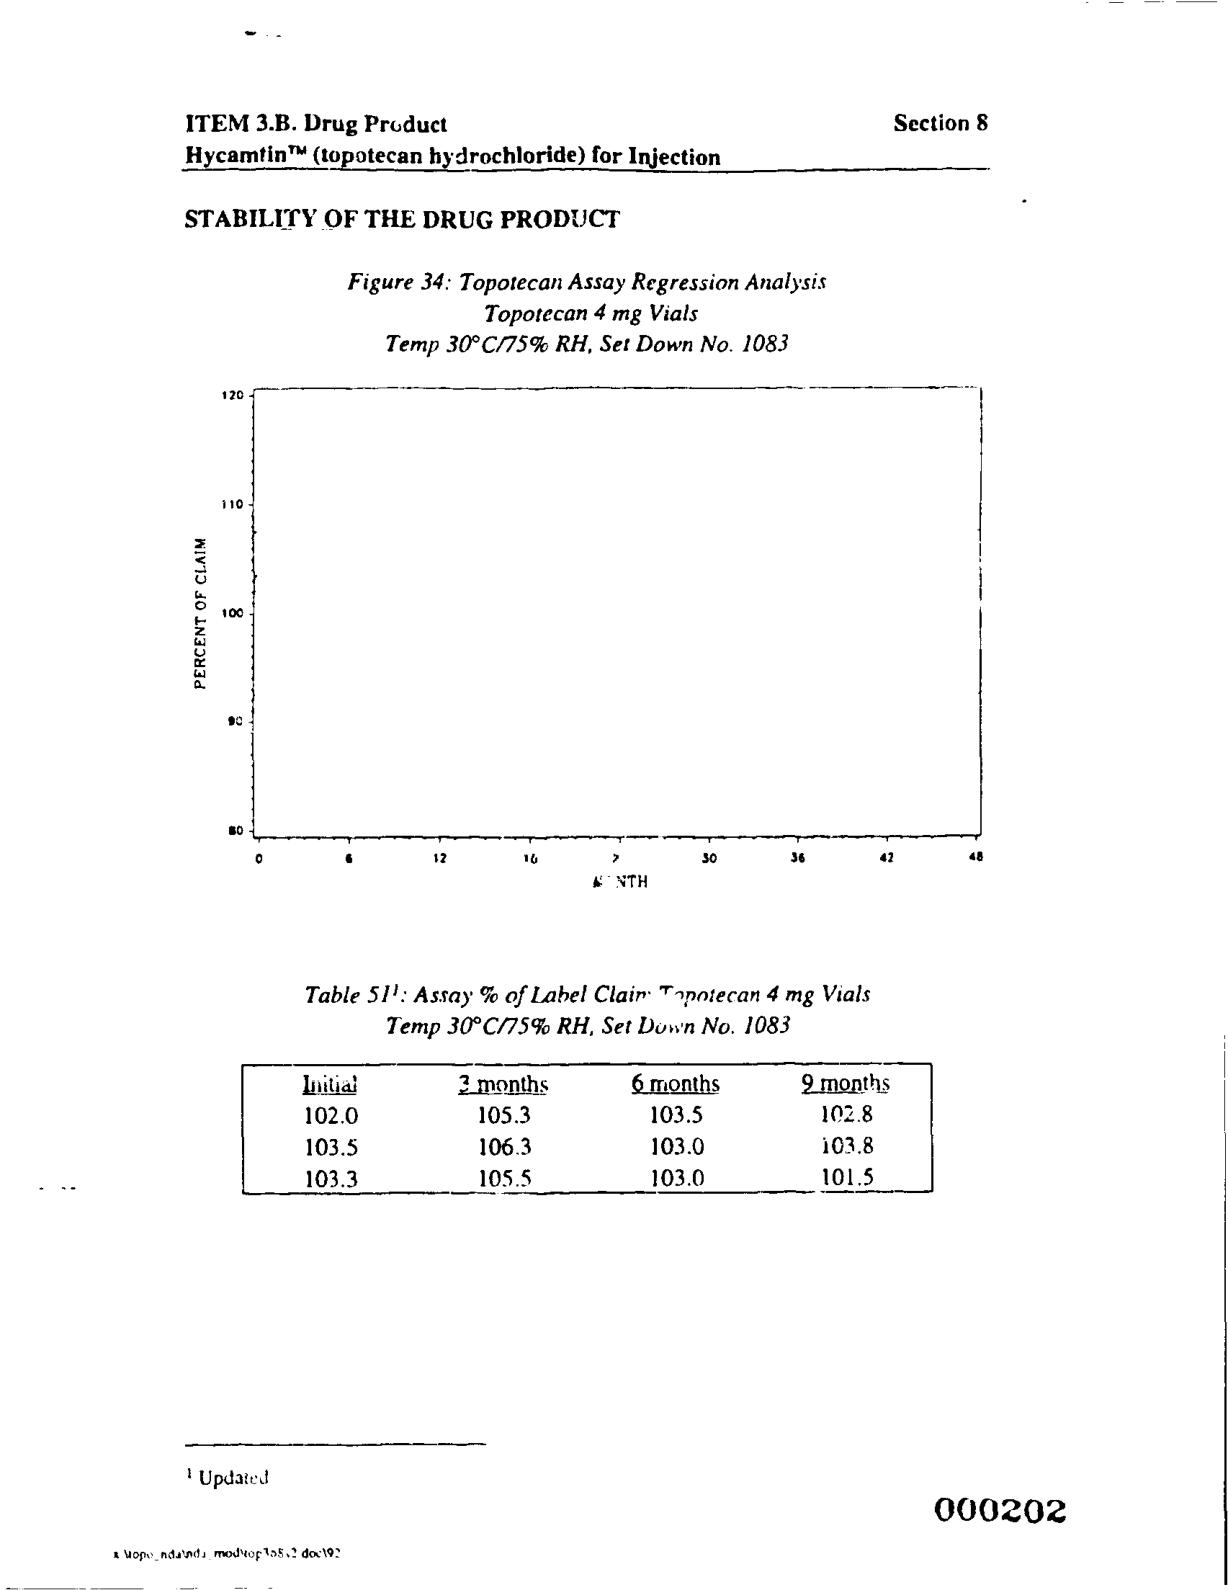partial_lined: (239, 1063, 935, 1195)
